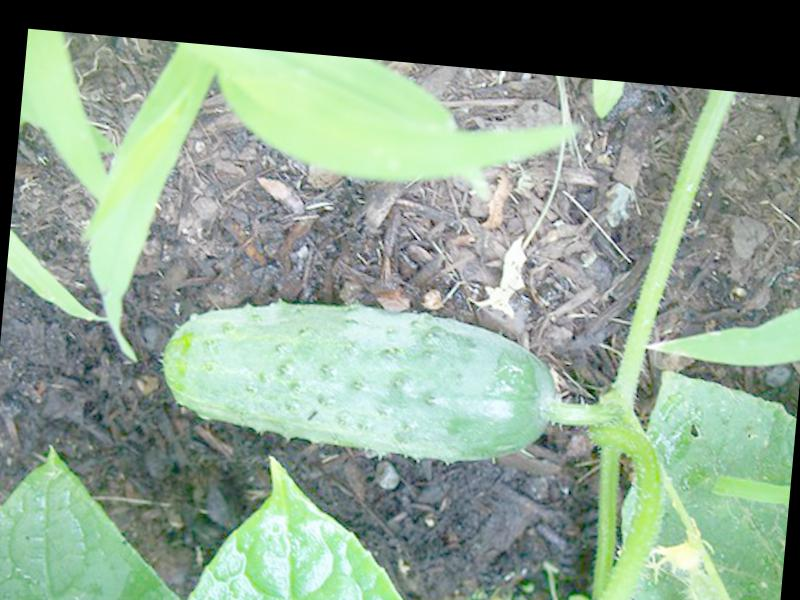Cucumber: (152, 287, 562, 469)
